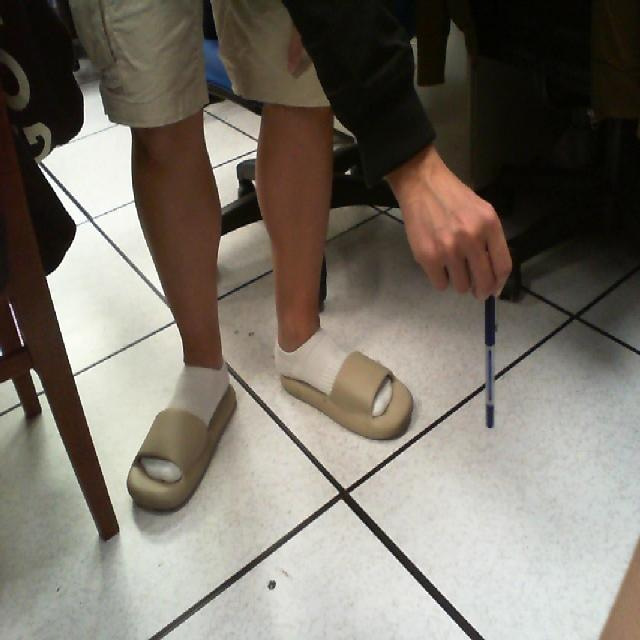Pen: (469, 256, 510, 454)
